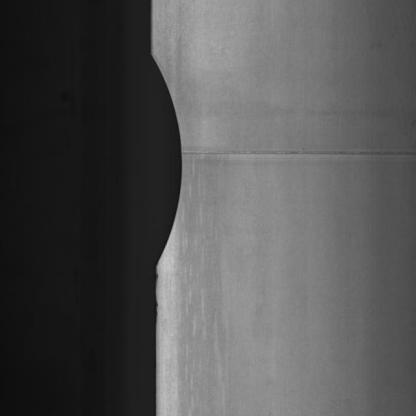crescent_gap: (140, 42, 185, 276)
welding_line: (183, 138, 414, 171)
